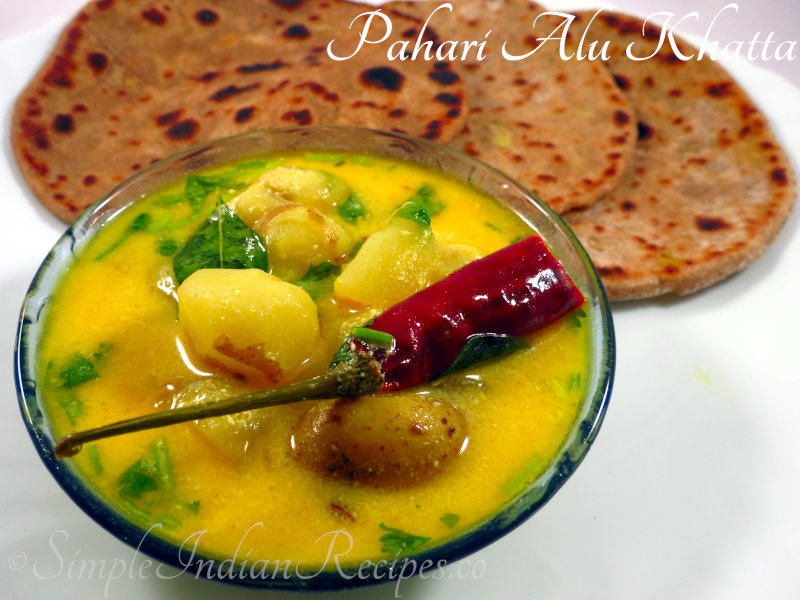aloo_paratha: (9, 4, 792, 256)
